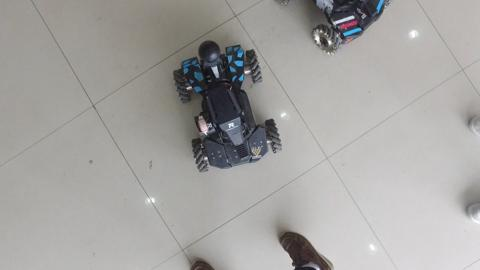chariot: (167, 37, 287, 178), (276, 1, 396, 60)
